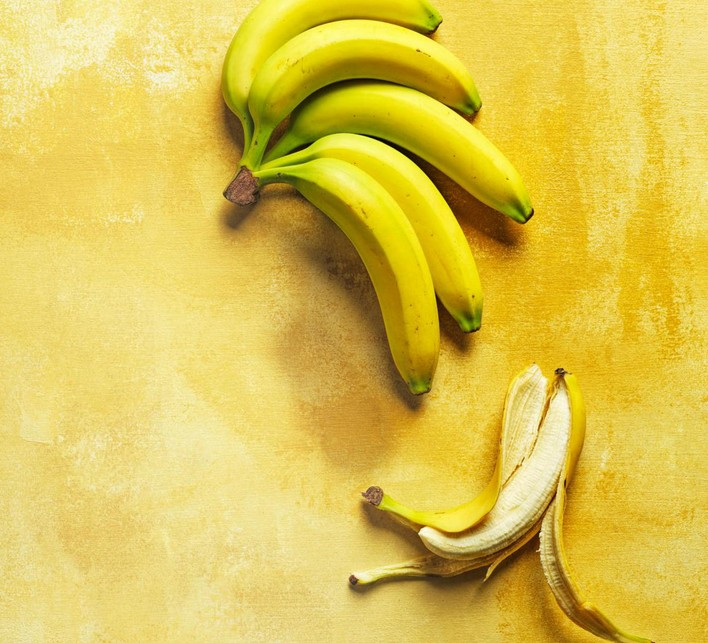banana: (186, 1, 546, 404), (354, 384, 663, 640)
